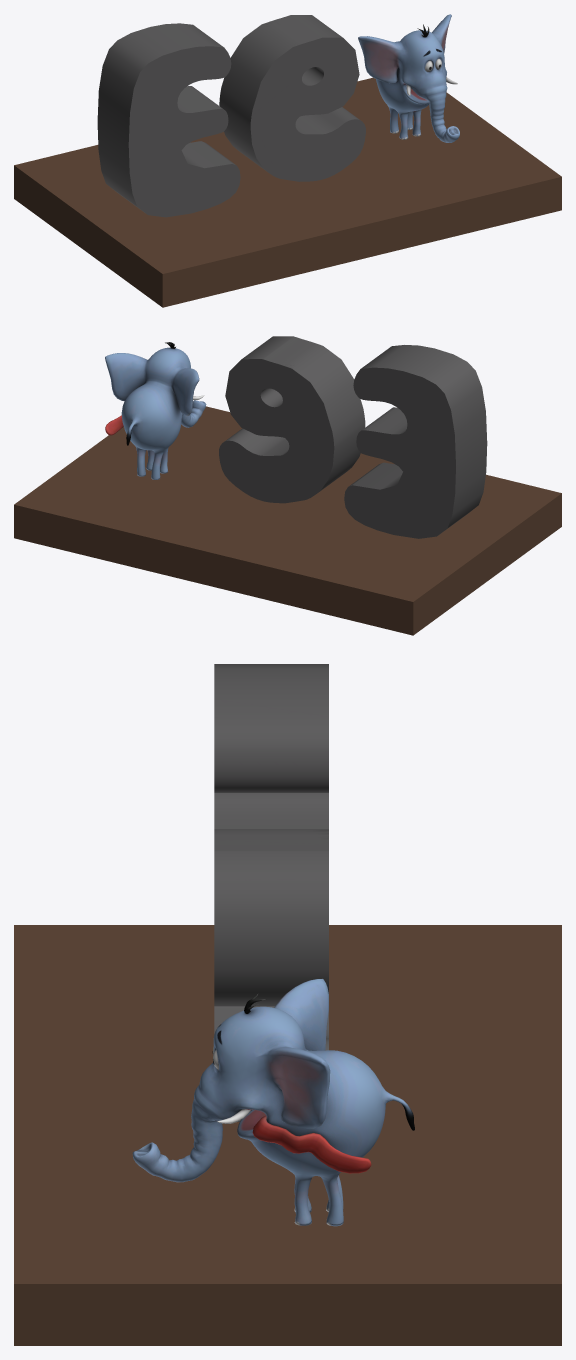
File: Ee_elefante_anim.fbx
3 renders of one model, top to bottom at view 1: azimuth 30°, elevation 25°; view 2: azimuth 150°, elevation 25°; view 3: azimuth 270°, elevation 25°, orthographic. The views are drawn at different scales.
Parts seen in each view (by area): view 1: root.001, node_id130, node_id139; view 2: root.001, node_id130, node_id139; view 3: root.001, node_id130, node_id139.
Boxes of the visible parts, left/top/right/bottom form: root.001: left=14, top=77, right=561, bottom=307; node_id130: left=97, top=15, right=365, bottom=217; node_id139: left=358, top=14, right=459, bottom=142; root.001: left=14, top=406, right=561, bottom=635; node_id130: left=219, top=336, right=487, bottom=538; node_id139: left=105, top=342, right=206, bottom=479; root.001: left=14, top=925, right=561, bottom=1345; node_id130: left=214, top=664, right=328, bottom=1121; node_id139: left=132, top=979, right=414, bottom=1226.
Size of the model in its own units: 428 by 205 by 276.
